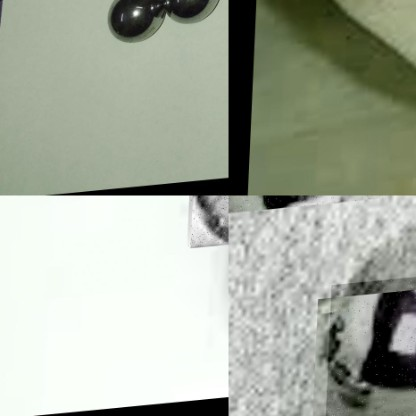ironball: (326, 276, 415, 415), (102, 0, 169, 47), (167, 0, 224, 23)
